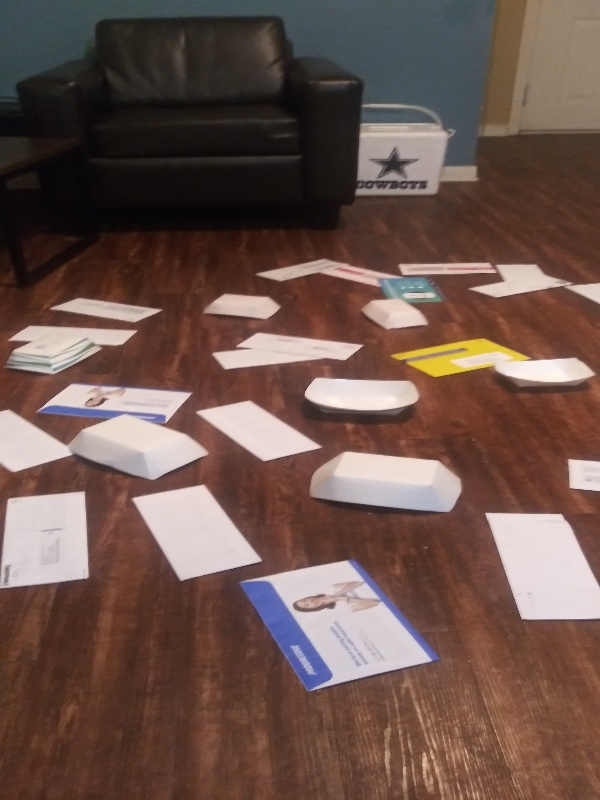plate: (65, 410, 212, 485), (305, 448, 465, 516), (302, 374, 422, 420), (1, 330, 105, 378), (490, 354, 600, 396), (200, 288, 286, 322), (357, 297, 433, 334)
